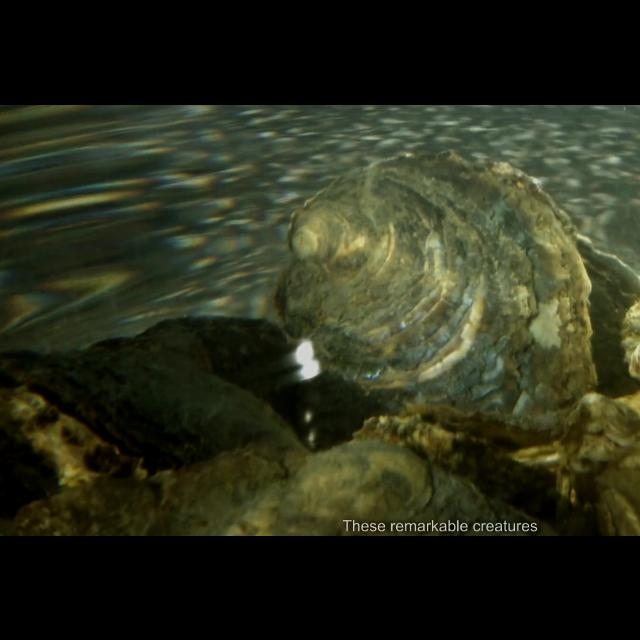Oyster-Closed: (12, 436, 558, 536), (553, 390, 640, 536)
Oyster-Open: (274, 149, 640, 427), (0, 348, 314, 516), (352, 402, 560, 532)
